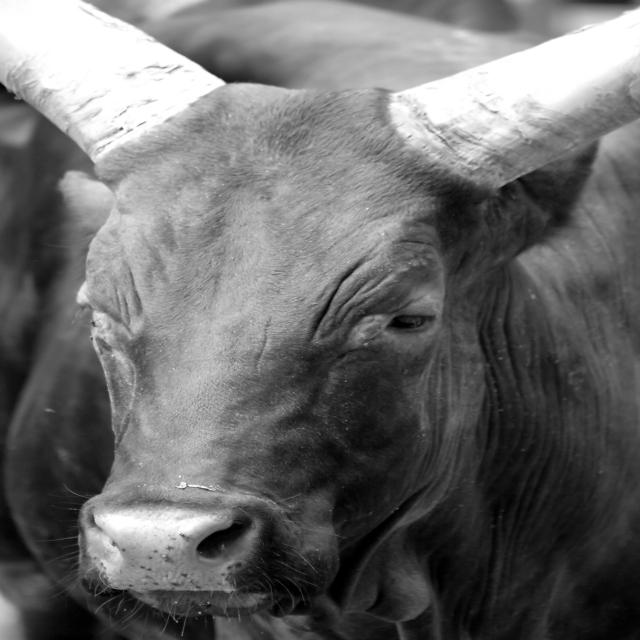cow: (2, 0, 639, 640)
